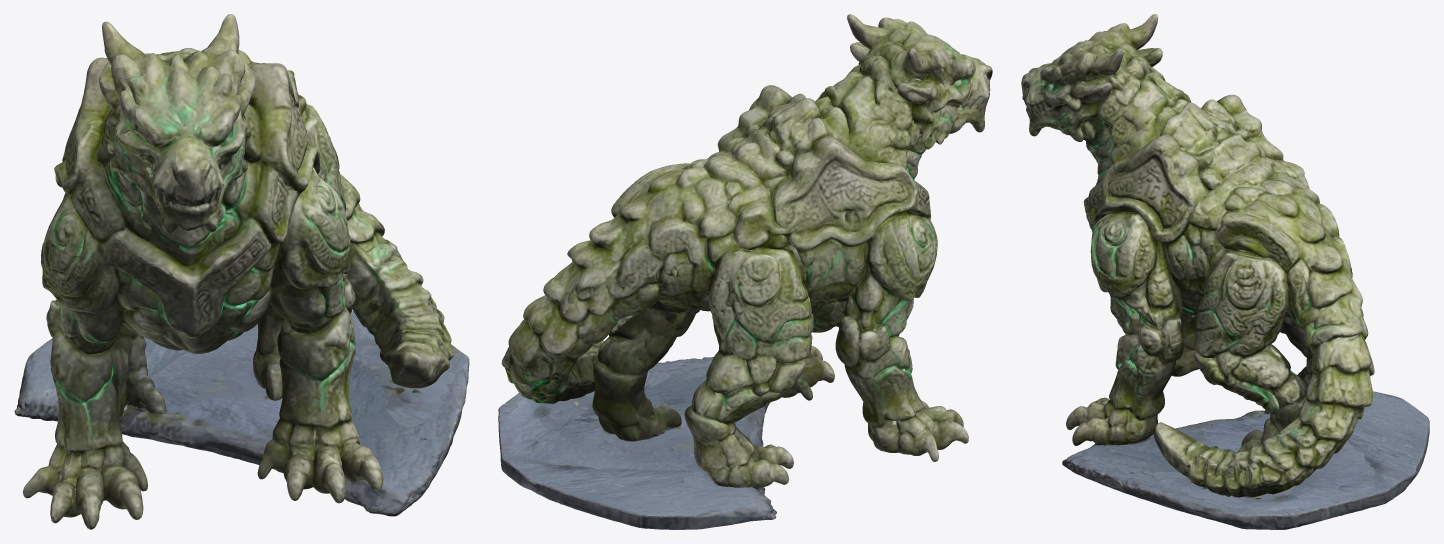
The model's file is child2.glb.
3 views of the same model, side by side, from view 1: azimuth 30°, elevation 25°; view 2: azimuth 150°, elevation 25°; view 3: azimuth 270°, elevation 25° (orthographic). The views are drawn at different scales.
Parts seen in each view (by area): view 1: geometry_0; view 2: geometry_0; view 3: geometry_0.
Boxes of the visible parts, <box> form: geometry_0: <box>14,14,469,529</box>; geometry_0: <box>498,14,992,529</box>; geometry_0: <box>1021,14,1429,529</box>.
Bounding box in the file's own units: 0.32 × 0.3199 × 0.3197.
Materials: 1 (1 with a texture image).
